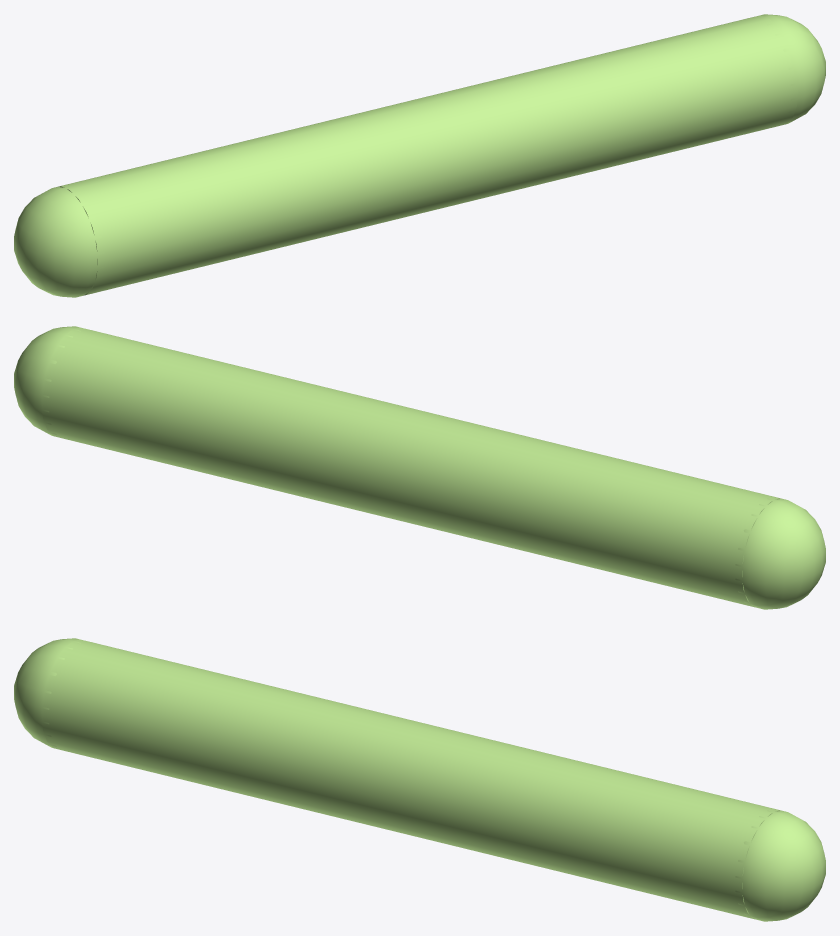
File: 09_F2_Stc.fbx
The picture shows the model from 3 angles, top to bottom: view 1: azimuth 30°, elevation 25°; view 2: azimuth 150°, elevation 25°; view 3: azimuth 330°, elevation 25°; orthographic projection.
Visible parts, largest first — view 1: Bond.001.002_2.001, F.003, F.004; view 2: Bond.001.002_2.001, F.003, F.004; view 3: Bond.001.002_2.001, F.004, F.003.
Part boxes in pixels (bbox=[...]): Bond.001.002_2.001: bbox=[58, 15, 798, 295]; F.003: bbox=[14, 185, 104, 297]; F.004: bbox=[753, 14, 825, 123]; Bond.001.002_2.001: bbox=[41, 327, 781, 607]; F.003: bbox=[735, 497, 825, 609]; F.004: bbox=[14, 326, 86, 435]; Bond.001.002_2.001: bbox=[41, 639, 781, 919]; F.004: bbox=[735, 809, 825, 921]; F.003: bbox=[14, 638, 86, 747].
Size of the model in its own units: 163 by 20 by 20.
